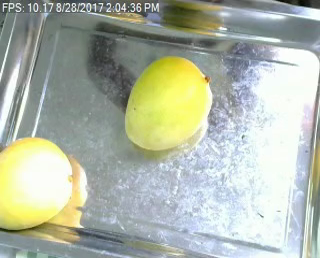Mango: (124, 50, 215, 154), (0, 138, 79, 231)
